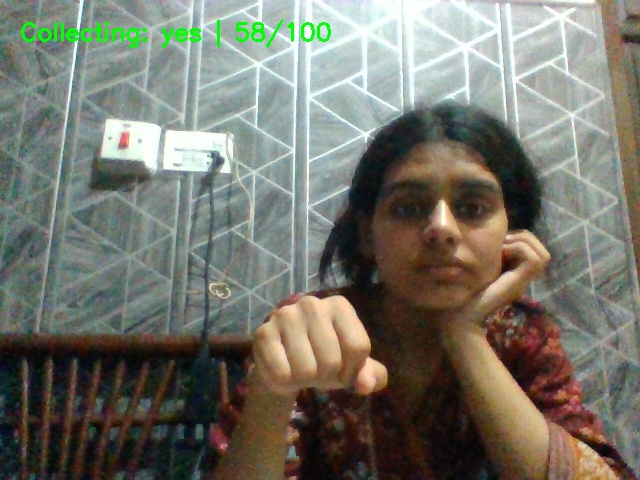yes: (237, 283, 405, 433)
